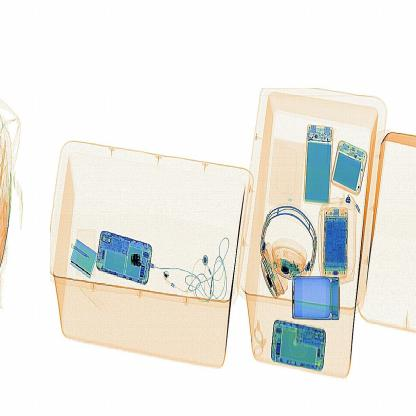scissors: (126, 248, 144, 273)
